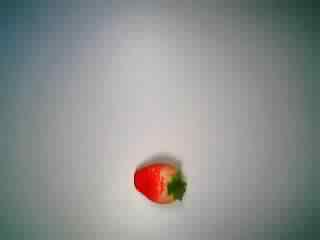strawberry: (129, 144, 195, 210)
